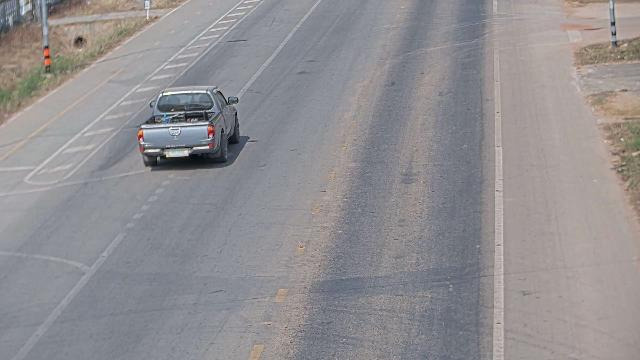pickup-truck: (137, 84, 240, 167)
